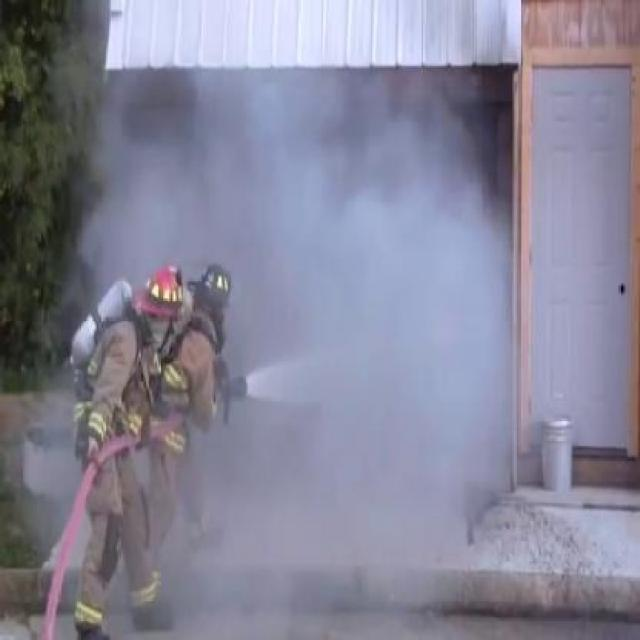smoke: (208, 49, 508, 320), (326, 326, 509, 552), (215, 420, 320, 574)
